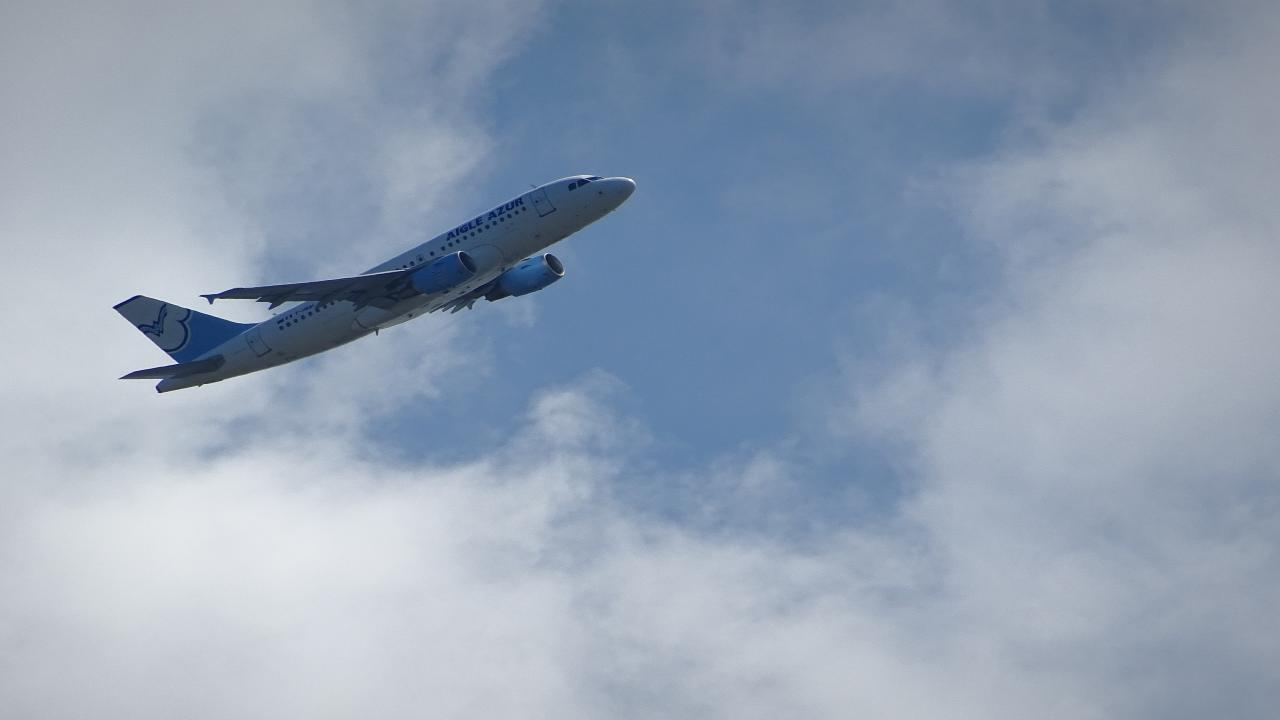Airplane: (101, 163, 652, 406)
